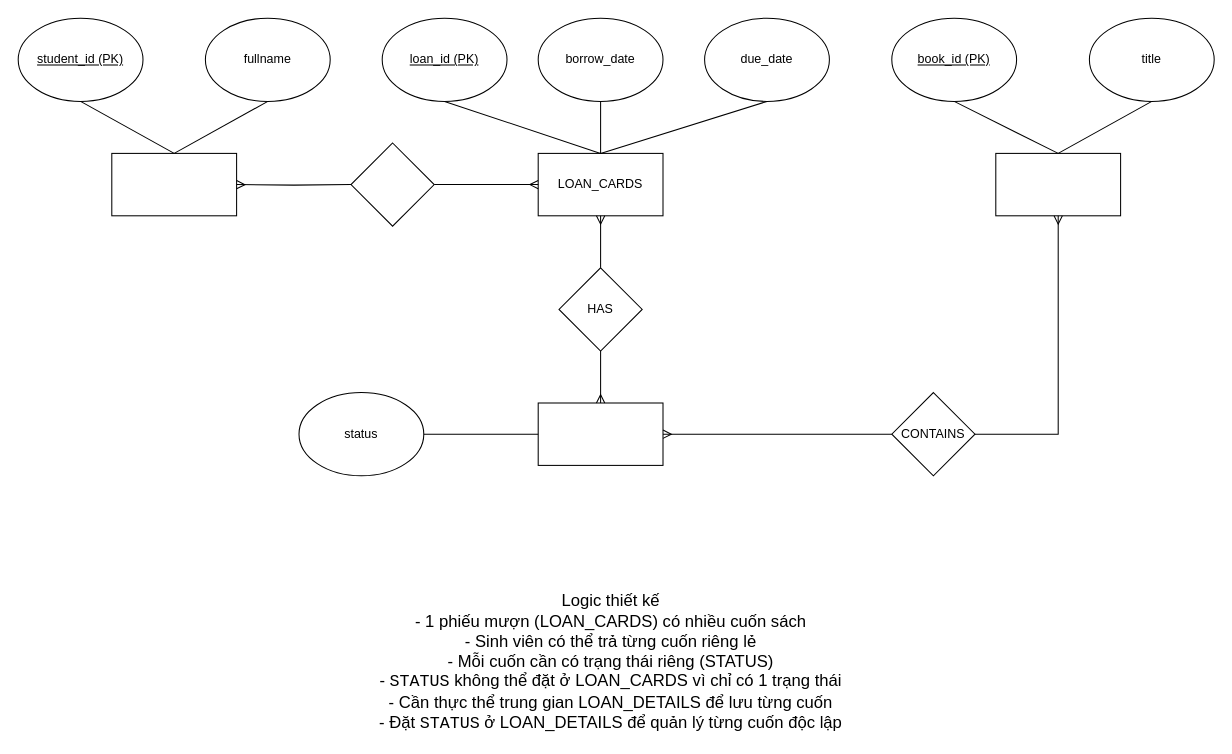
Some shapes in this 1232 by 754 pixel diagram are drawn without their labels. Each missing label, with the centre of its shape:
"BOOKS" belongs at [1058,184].
"BORROW" belongs at [392,184].
"LOAN_DETAILS" belongs at [600,433].
"STUDENTS" belongs at [174,184].
